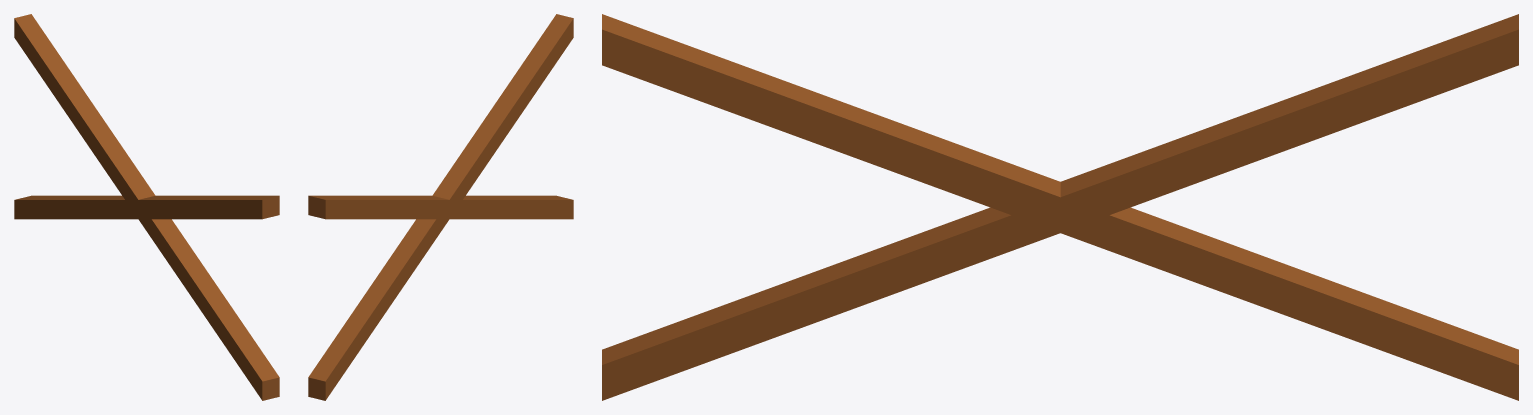
Rendered from Buildings_Wooden_Framework_02.fbx.
3 views of the same model, side by side, from view 1: azimuth 30°, elevation 25°; view 2: azimuth 150°, elevation 25°; view 3: azimuth 270°, elevation 25° (orthographic). The views are drawn at different scales.
Visible parts, largest first — view 1: Model; view 2: Model; view 3: Model.
Part boxes in pixels (x1=…): Model: x1=14, y1=14, x2=279, y2=400; Model: x1=308, y1=14, x2=573, y2=400; Model: x1=602, y1=14, x2=1518, y2=400.
Size of the model in its own units: 43.35 by 484 by 1084.
